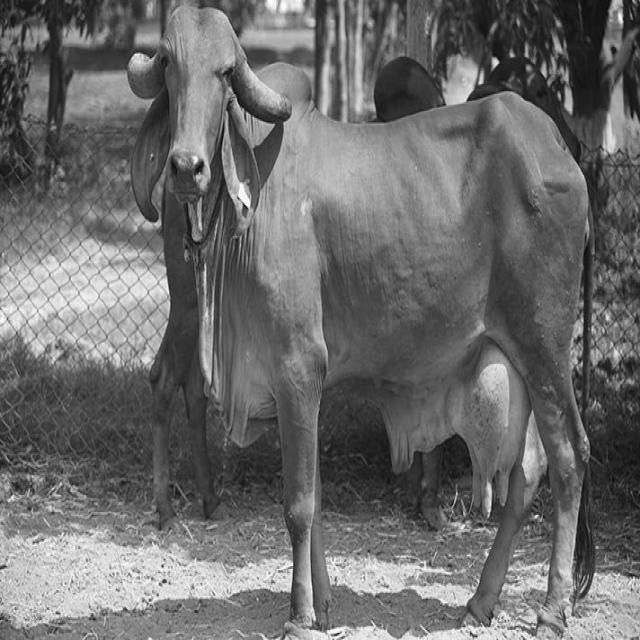Cow: (123, 12, 560, 597)
